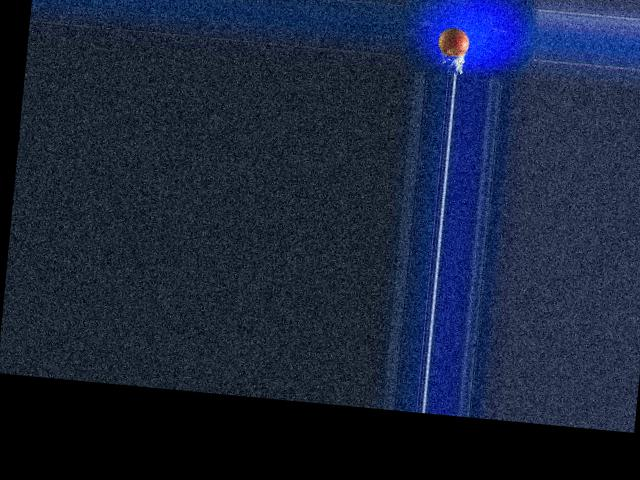tomato: (436, 27, 470, 57)
